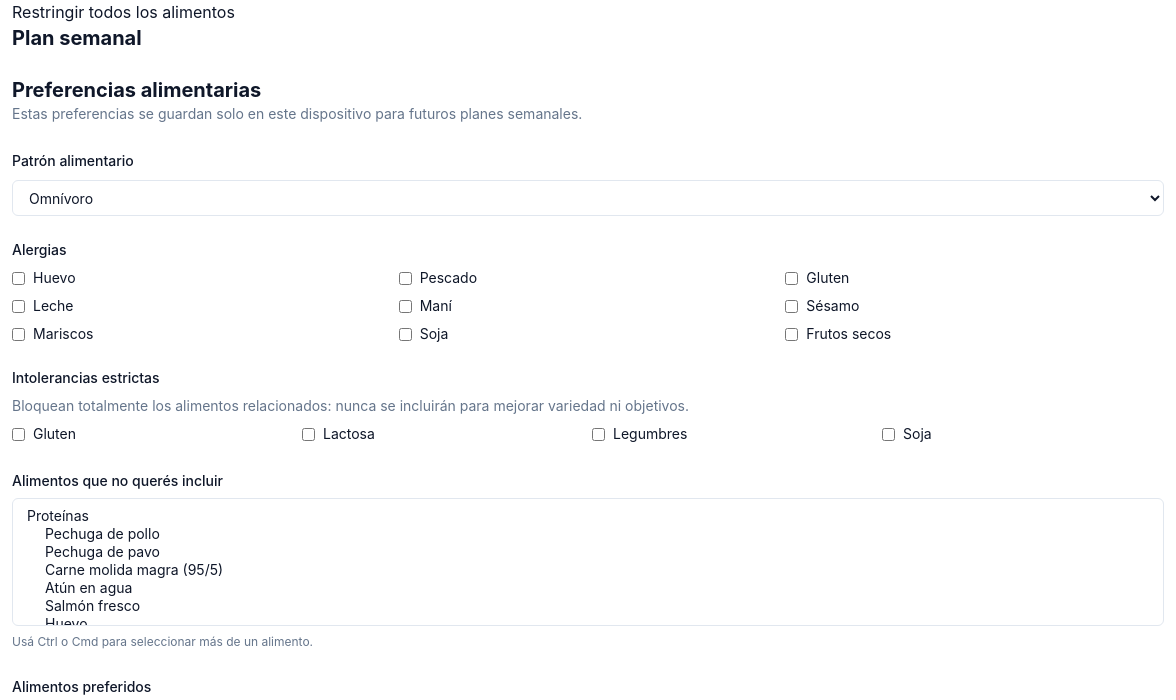
Test: WeeklyPlan › discards unsaved preference edits and restores the applied values
The image size is (1176, 700).
Click the checkbox labelled "Leche": x=18, y=306 [12,300,25,312]
(page scrolled)
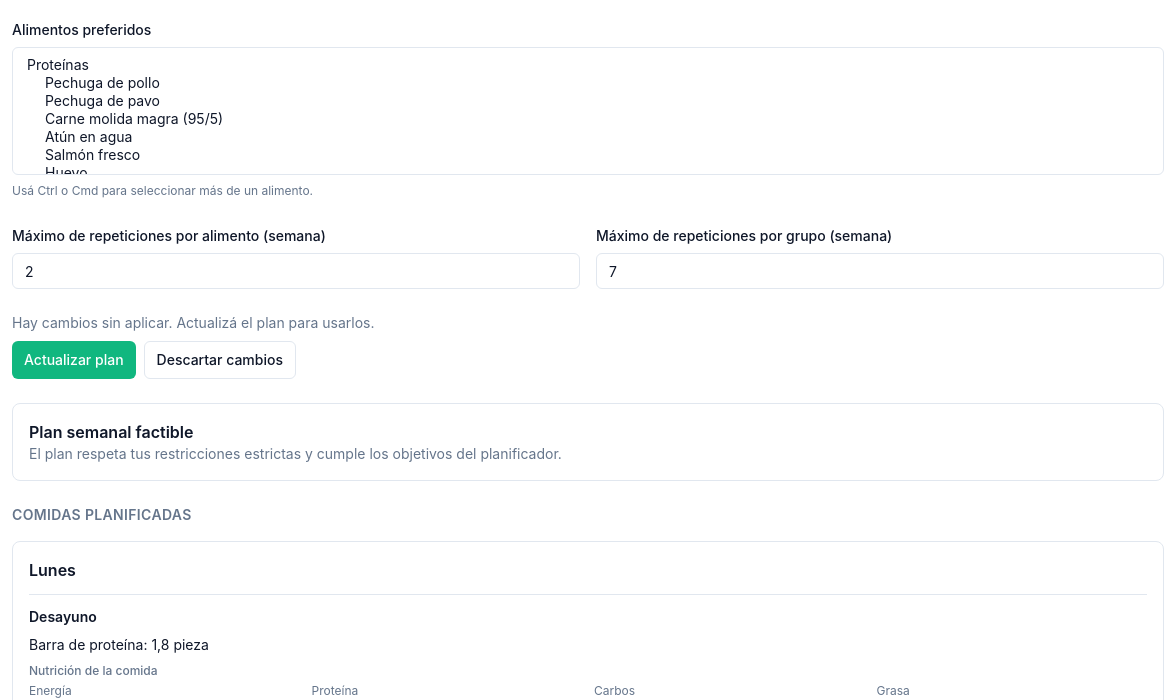
Expected: the button "Descartar cambios" is enabled
Click the button "Descartar cambios": x=220, y=360 [144,341,296,379]
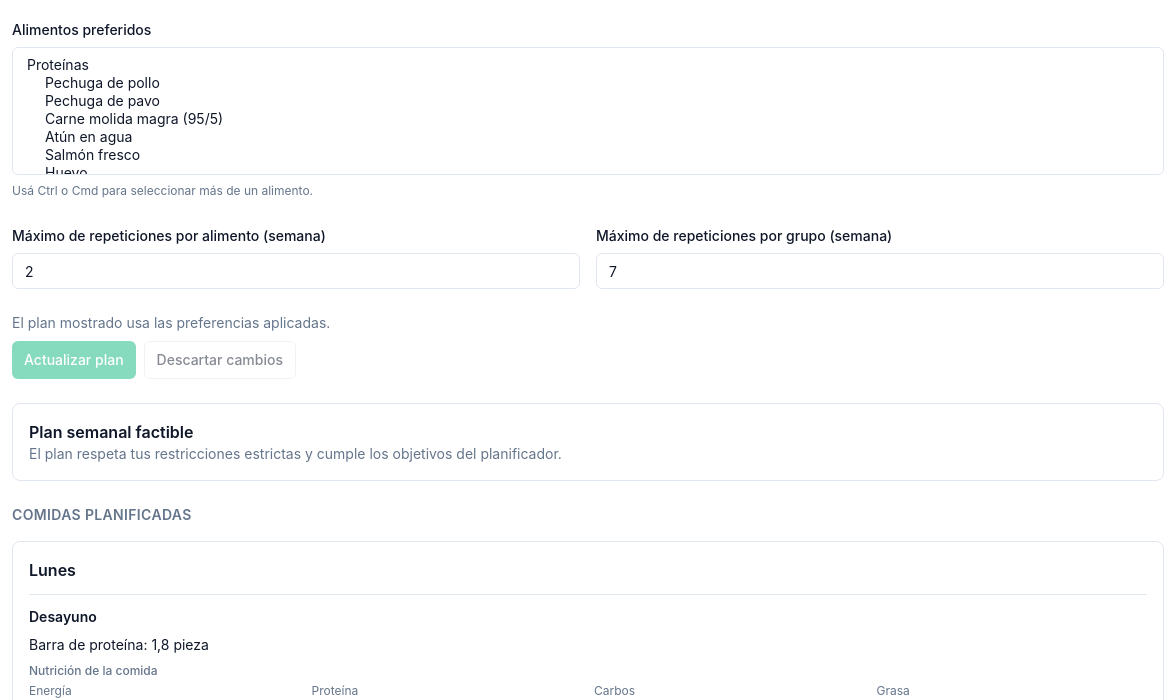
Expected: the heading "Lunes" is shown, [29,560,76,580]
Expected: the button "Actualizar plan" is disabled, [12,341,136,379]
